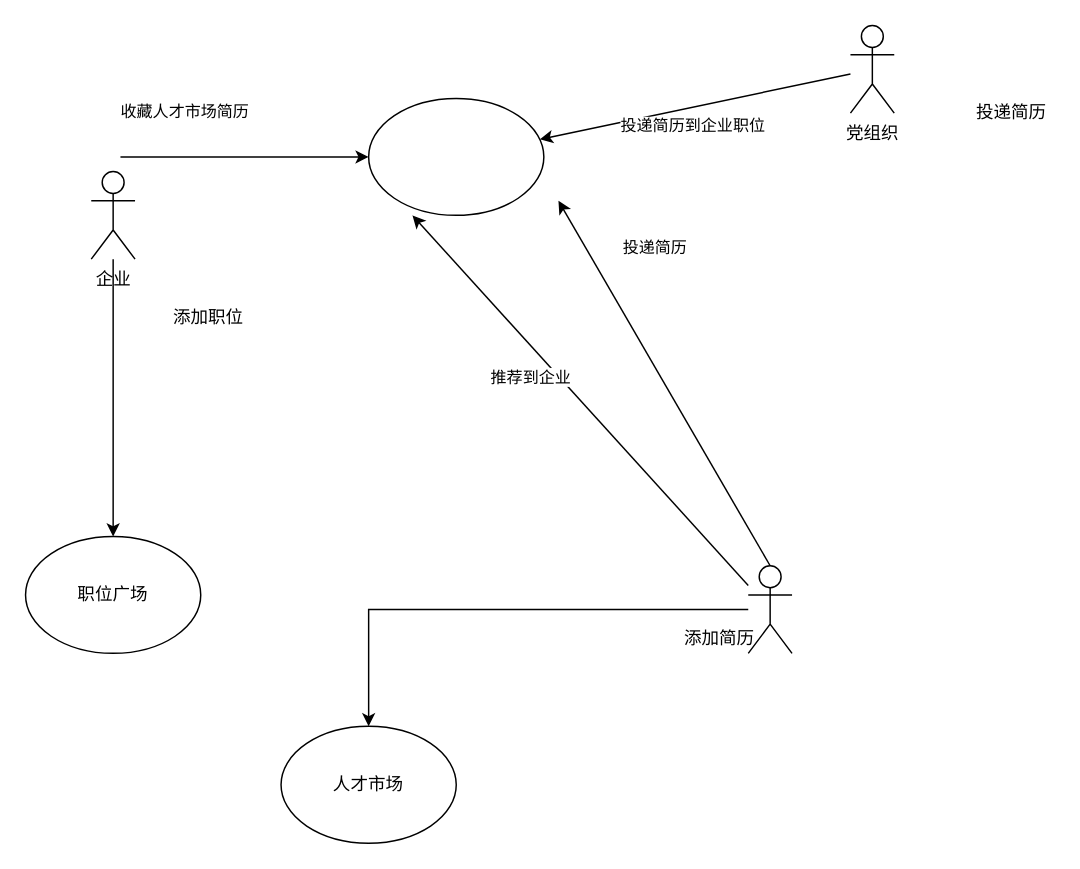
Some shapes in this 1080 by 869 pixel diagram are drawn without their labels. Each missing label, with the centre of its shape:
"企业简历库" goes at point 455,156.
"园区管理员" goes at point 769,608.
